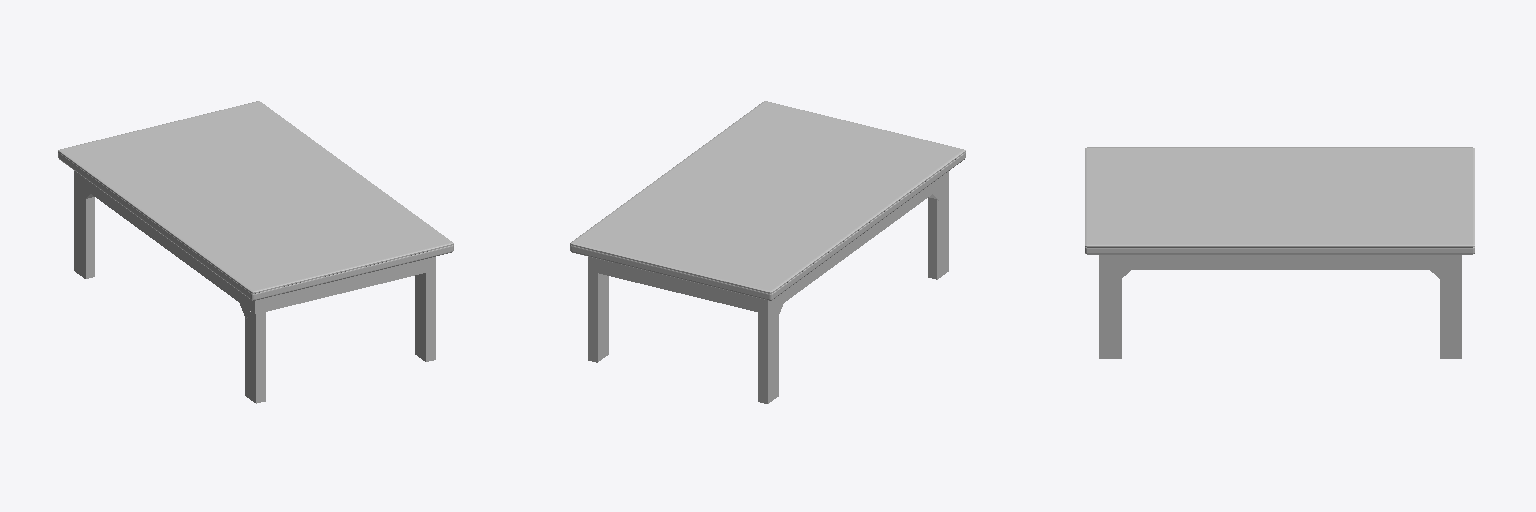
Rendered from mesa.obj.
3 views of the same model, side by side, from view 1: azimuth 30°, elevation 25°; view 2: azimuth 150°, elevation 25°; view 3: azimuth 270°, elevation 25° (orthographic).
Parts seen in each view (by area): view 1: cuarto:polySurface5244; view 2: cuarto:polySurface5244; view 3: cuarto:polySurface5244.
Boxes of the visible parts, x1=… form: cuarto:polySurface5244: x1=58, y1=101, x2=453, y2=403; cuarto:polySurface5244: x1=570, y1=101, x2=965, y2=403; cuarto:polySurface5244: x1=1085, y1=147, x2=1474, y2=358.
Bounding box in the file's own units: 1.89 × 1.07 × 3.17.